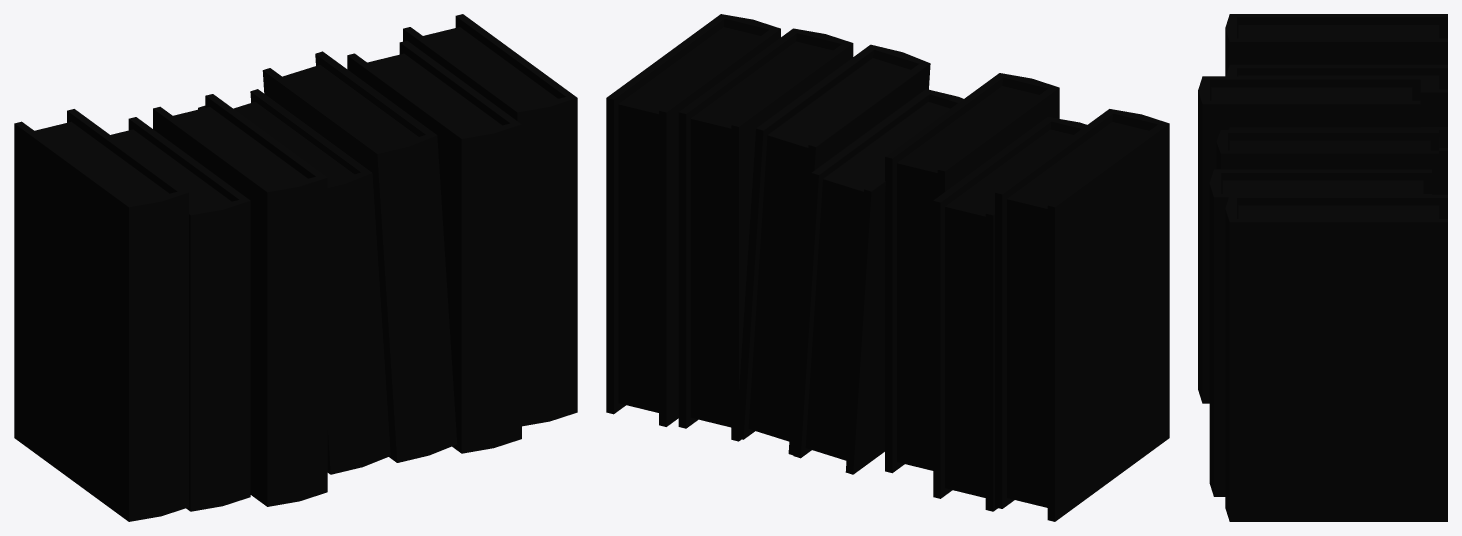
File: SM_Book_6.obj
3 renders of one model, left to right at view 1: azimuth 30°, elevation 25°; view 2: azimuth 150°, elevation 25°; view 3: azimuth 270°, elevation 25°, orthographic. The views are drawn at different scales.
Parts seen in each view (by area): view 1: SM_Book_6_M_Texture_Atlas; view 2: SM_Book_6_M_Texture_Atlas; view 3: SM_Book_6_M_Texture_Atlas.
Part boxes in pixels (x1,y1,x2,y2): SM_Book_6_M_Texture_Atlas: [14, 14, 577, 521]; SM_Book_6_M_Texture_Atlas: [606, 14, 1169, 521]; SM_Book_6_M_Texture_Atlas: [1198, 14, 1447, 521].
Bounding box in the file's own units: 0.7461 × 0.51 × 0.3778.
